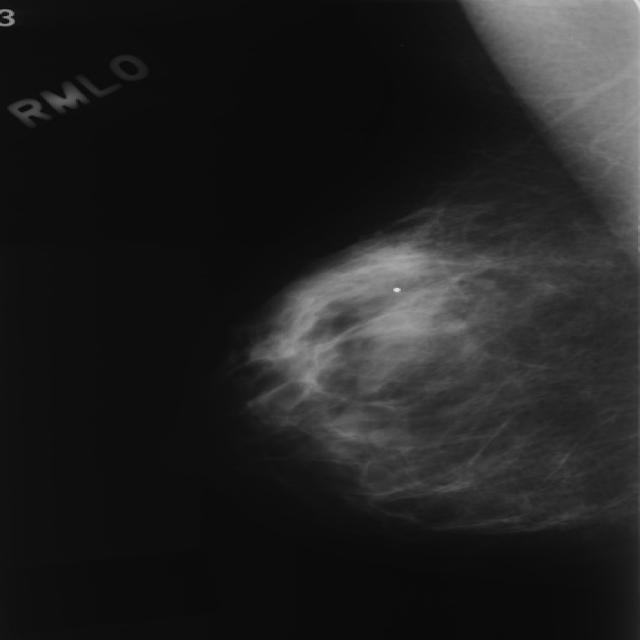tumour: (355, 302, 435, 335)
